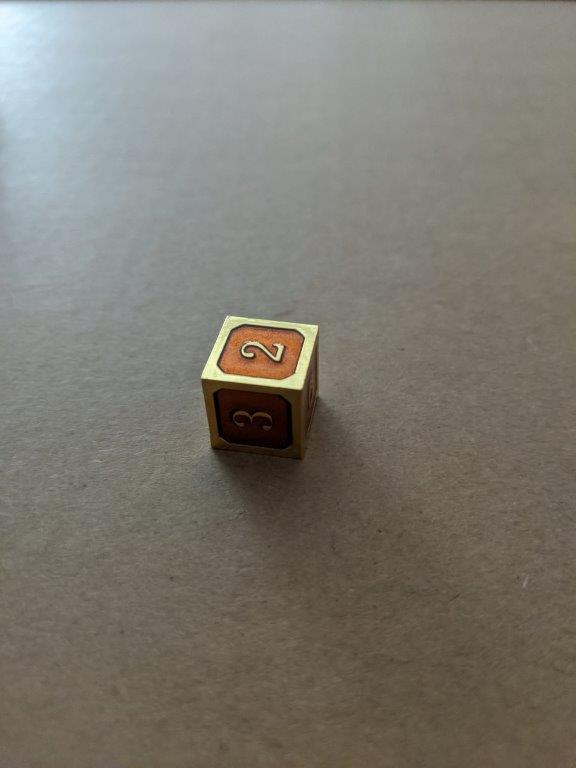d6-2: (199, 312, 319, 461)
